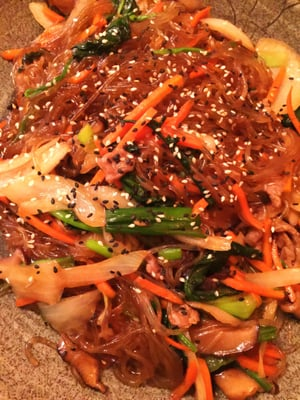sandwich: (1, 0, 300, 398)
